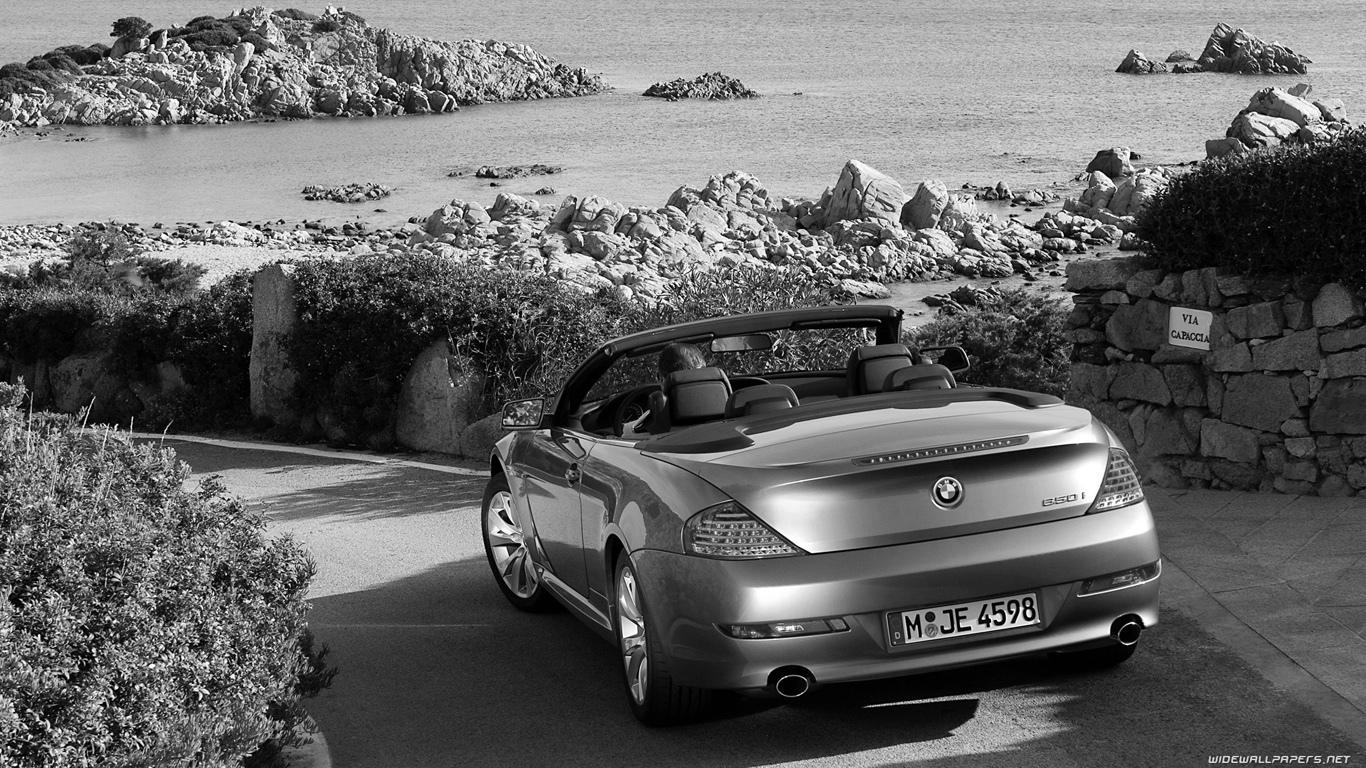car: (473, 299, 1172, 740)
